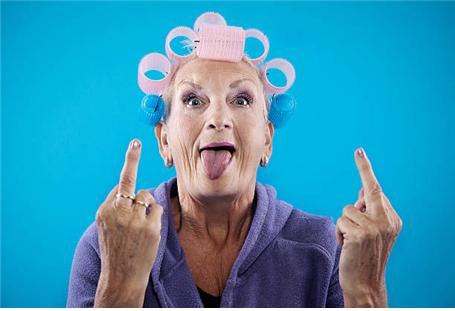insulting_gesture: (332, 149, 402, 311), (92, 137, 163, 288)
